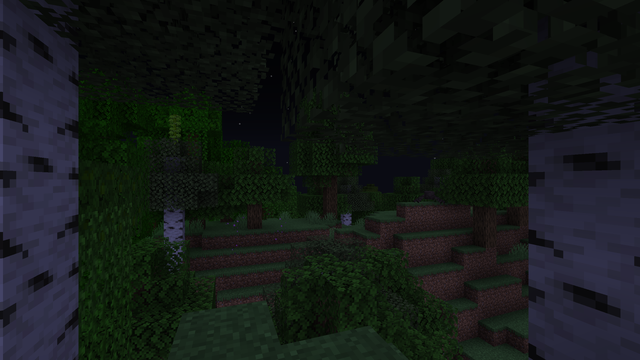araignees: (414, 189, 444, 203)
